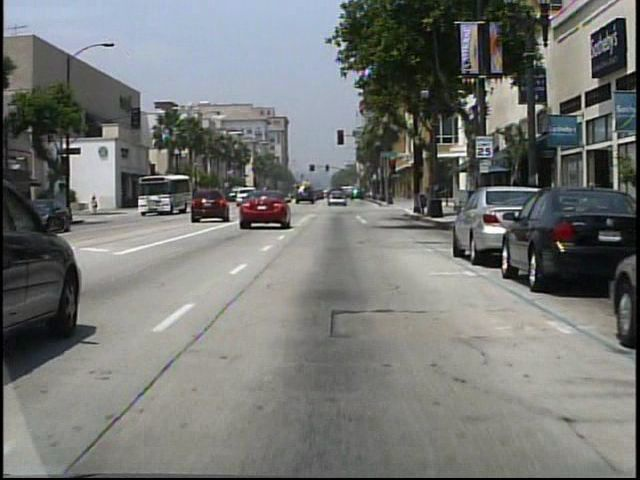person: (92, 194, 100, 216)
